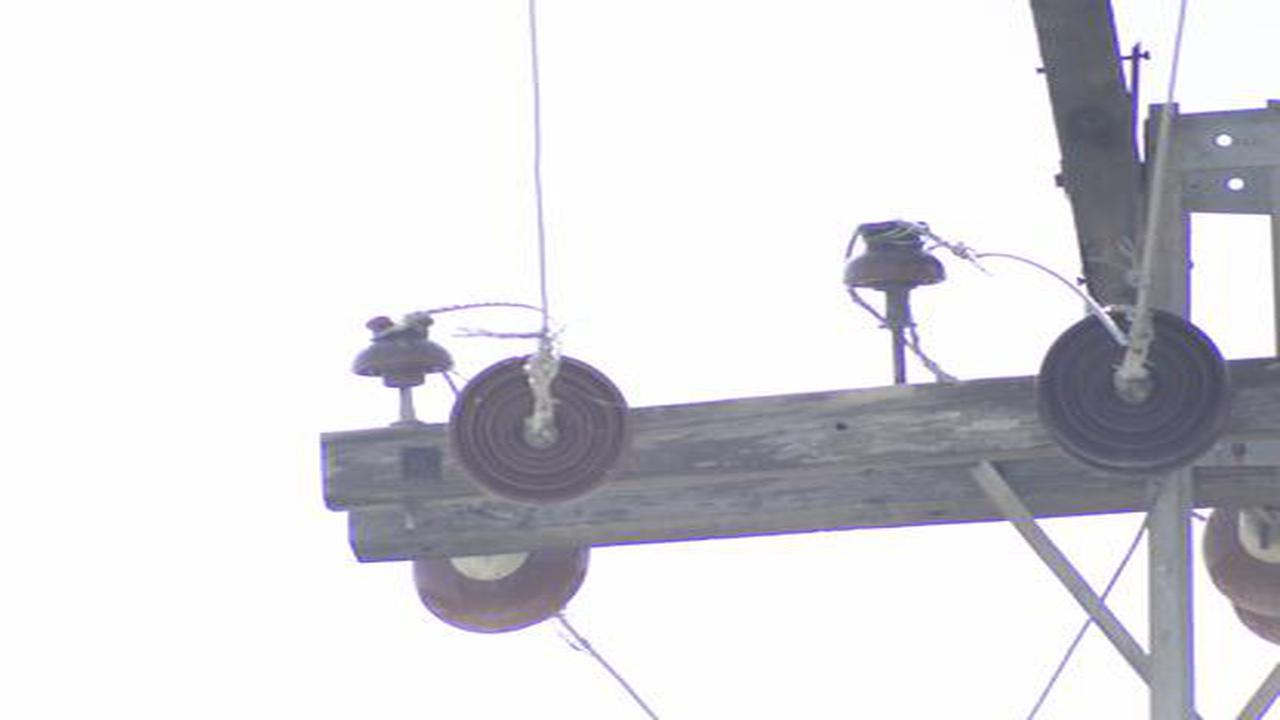insulator_disc: (1031, 309, 1239, 480), (454, 347, 634, 509), (409, 541, 593, 630)
insulator_pin: (838, 215, 951, 298), (349, 311, 451, 383)
